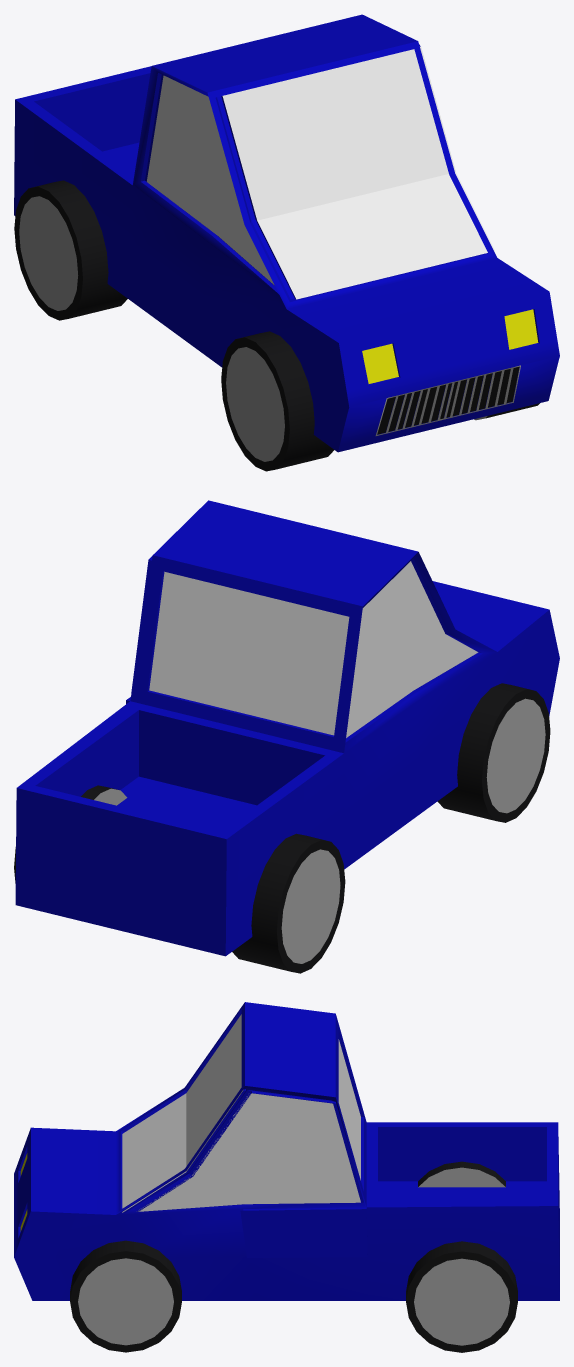
Rendered from Car.fbx.
3 views of the same model, one above another, from view 1: azimuth 30°, elevation 25°; view 2: azimuth 150°, elevation 25°; view 3: azimuth 270°, elevation 25° (orthographic). The views are drawn at different scales.
Parts seen in each view (by area): view 1: pCube1, pCylinder3, pCylinder4; view 2: pCube1, pCylinder3, pCylinder4, pCylinder2; view 3: pCube1, pCylinder1, pCylinder2, pCylinder3.
Boxes of the visible parts, x1=… form: pCube1: x1=14, y1=14, x2=559, y2=452; pCylinder3: x1=14, y1=180, x2=127, y2=320; pCylinder4: x1=221, y1=331, x2=333, y2=471; pCube1: x1=15, y1=500, x2=559, y2=956; pCylinder3: x1=232, y1=833, x2=345, y2=973; pCylinder4: x1=437, y1=683, x2=550, y2=822; pCylinder2: x1=14, y1=785, x2=127, y2=883; pCube1: x1=14, y1=1002, x2=559, y2=1300; pCylinder1: x1=70, y1=1240, x2=181, y2=1352; pCylinder2: x1=406, y1=1241, x2=517, y2=1352; pCylinder3: x1=418, y1=1161, x2=505, y2=1187.
Size of the model in its own units: 2.21 by 2.53 by 4.88.
